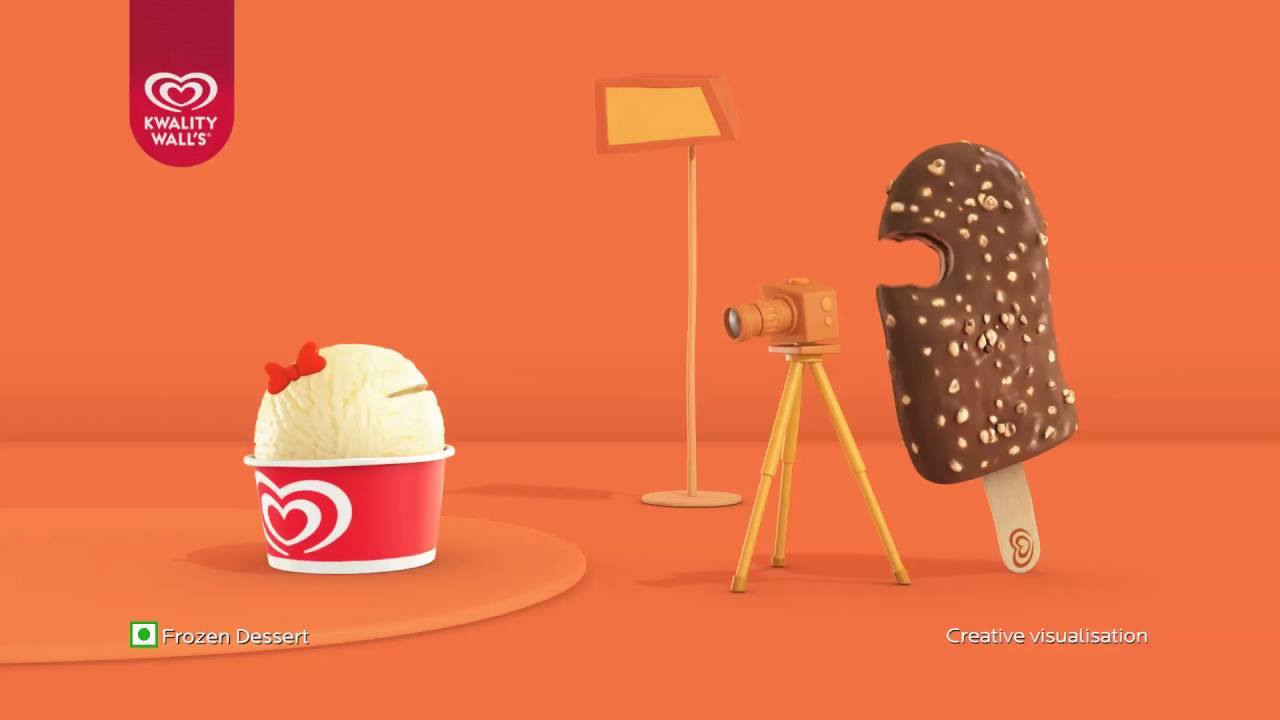Kwality_Walls: (243, 472, 354, 566), (139, 68, 217, 116)
